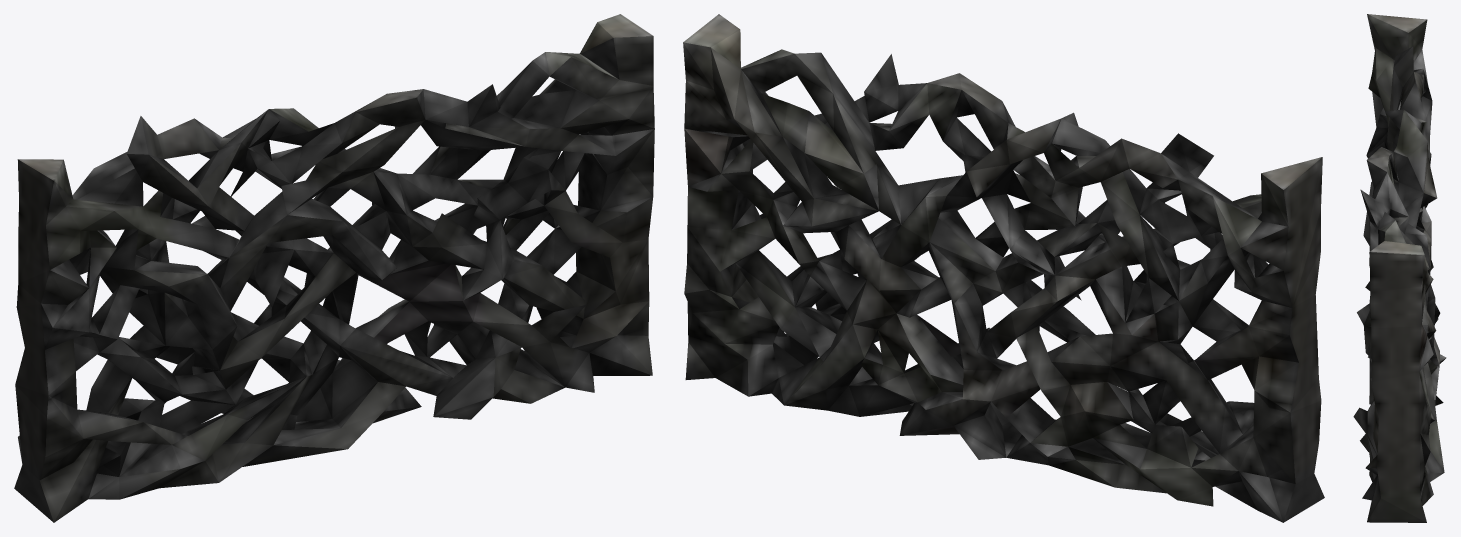
The model's file is thorn_hedge.glb.
The picture shows the model from 3 angles, left to right: view 1: azimuth 30°, elevation 25°; view 2: azimuth 150°, elevation 25°; view 3: azimuth 270°, elevation 25°; orthographic projection. The views are drawn at different scales.
Parts seen in each view (by area): view 1: tripo_node_53c453bf-1e0c-4985-9d23-7bab9330ce13.001; view 2: tripo_node_53c453bf-1e0c-4985-9d23-7bab9330ce13.001; view 3: tripo_node_53c453bf-1e0c-4985-9d23-7bab9330ce13.001.
Part boxes in pixels (x1=…): tripo_node_53c453bf-1e0c-4985-9d23-7bab9330ce13.001: x1=14, y1=14, x2=654, y2=522; tripo_node_53c453bf-1e0c-4985-9d23-7bab9330ce13.001: x1=683, y1=14, x2=1324, y2=522; tripo_node_53c453bf-1e0c-4985-9d23-7bab9330ce13.001: x1=1353, y1=14, x2=1446, y2=522.
Bounding box in the file's own units: 0.9779 × 0.5516 × 0.1619.
1 material, 1 textured.
